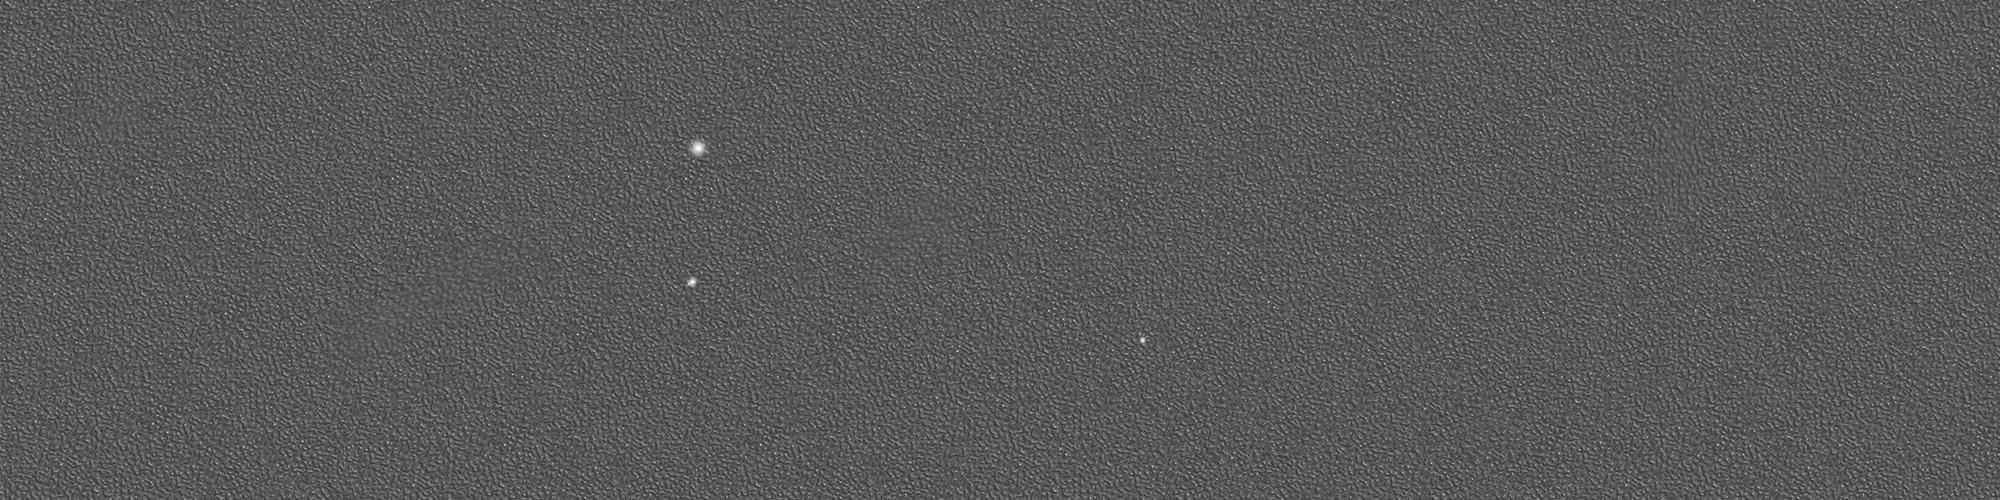Particles: (682, 136, 708, 161), (682, 273, 702, 291), (1136, 332, 1149, 347)
